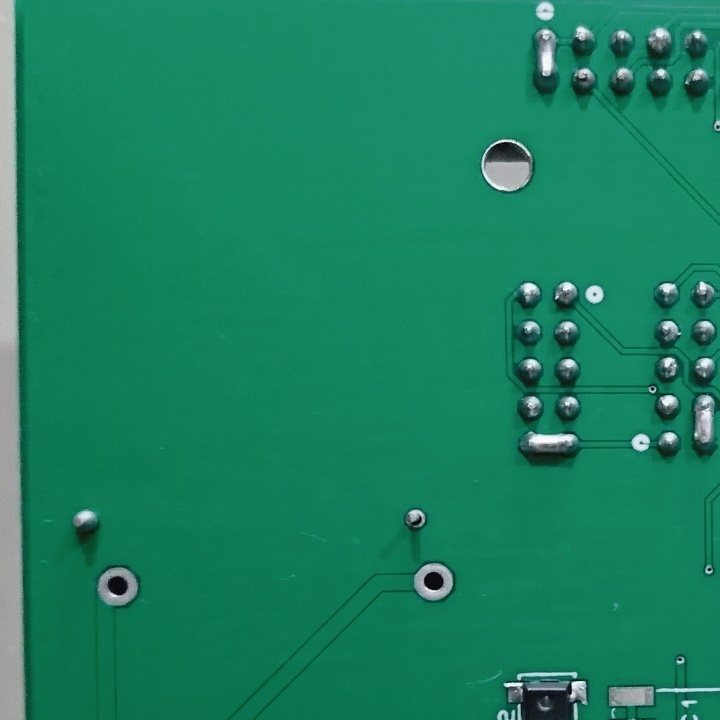F: (94, 563, 144, 612), (410, 558, 457, 603), (400, 504, 428, 534)
P: (513, 424, 584, 464), (687, 386, 720, 461), (529, 24, 561, 97)
